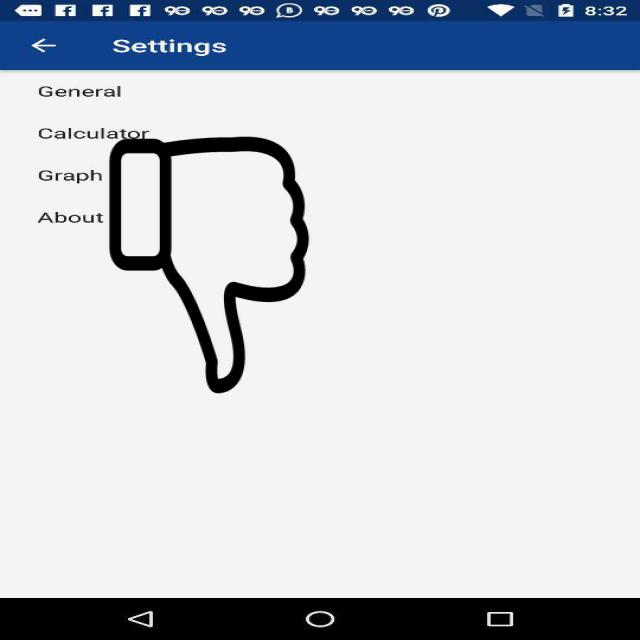obstruction: (106, 137, 312, 393)
